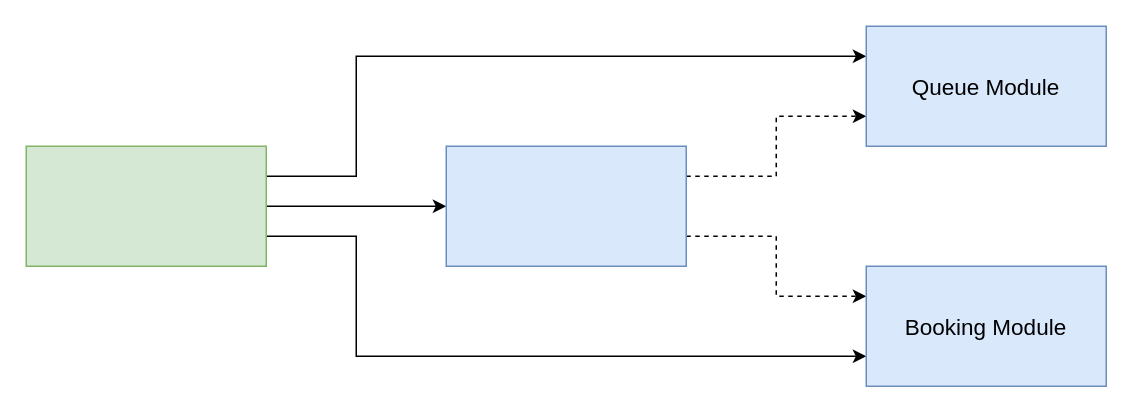
Image size: 1133x413. Some labels were removed from this diagram. Each missing label, with the box of its shape:
Database Connection: (25, 145, 266, 266)
Store Search Module: (445, 145, 686, 266)
